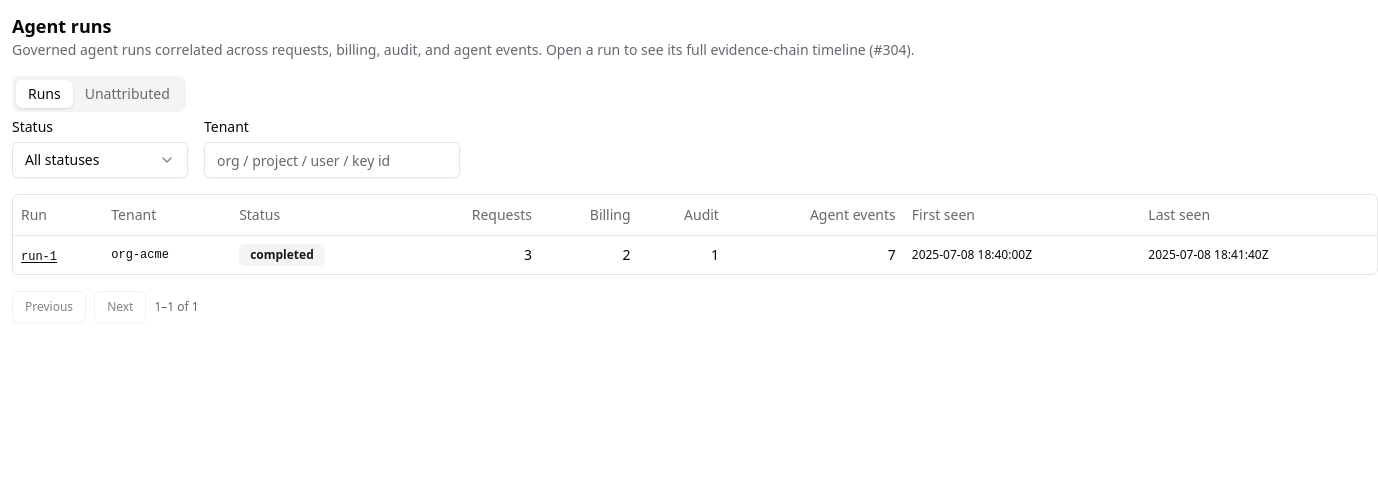
it: AgentRunsPage — unattributed activity › makes the evidence behind the derived status reachable
Click the tab "Unattributed" at (127, 94), box [73, 80, 182, 108]
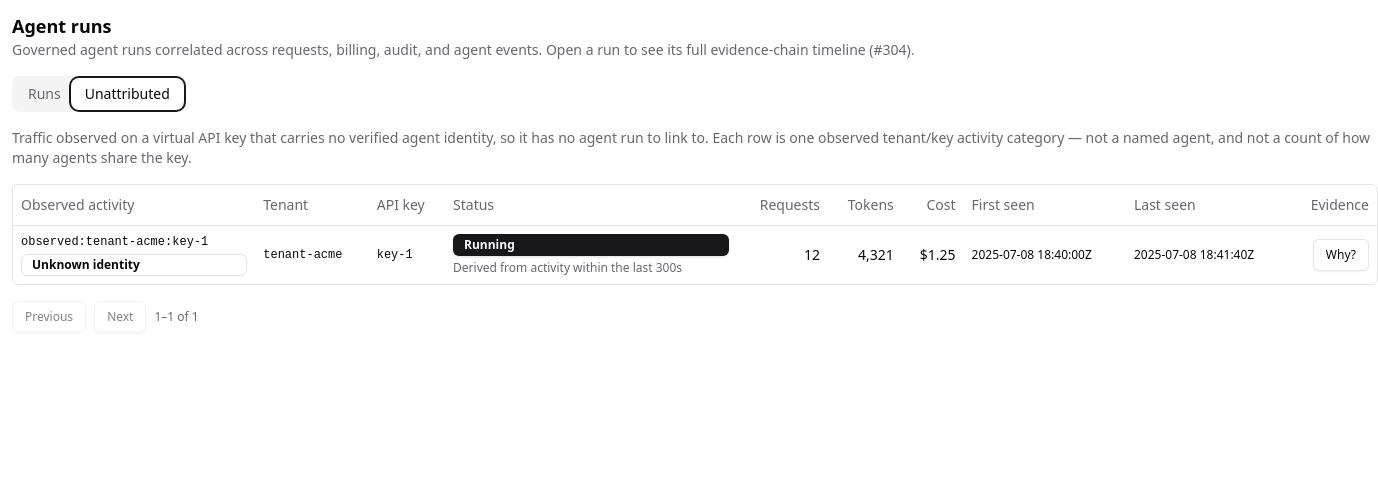
Check: the text "Requests observed" is not shown
Check: the text "observed:tenant-acme:key-1" is shown, box [21, 234, 208, 248]
Click the button with aria-label "Show the evidence for observed:tenant-acme:key-1" at (1341, 254), box [1313, 238, 1369, 270]
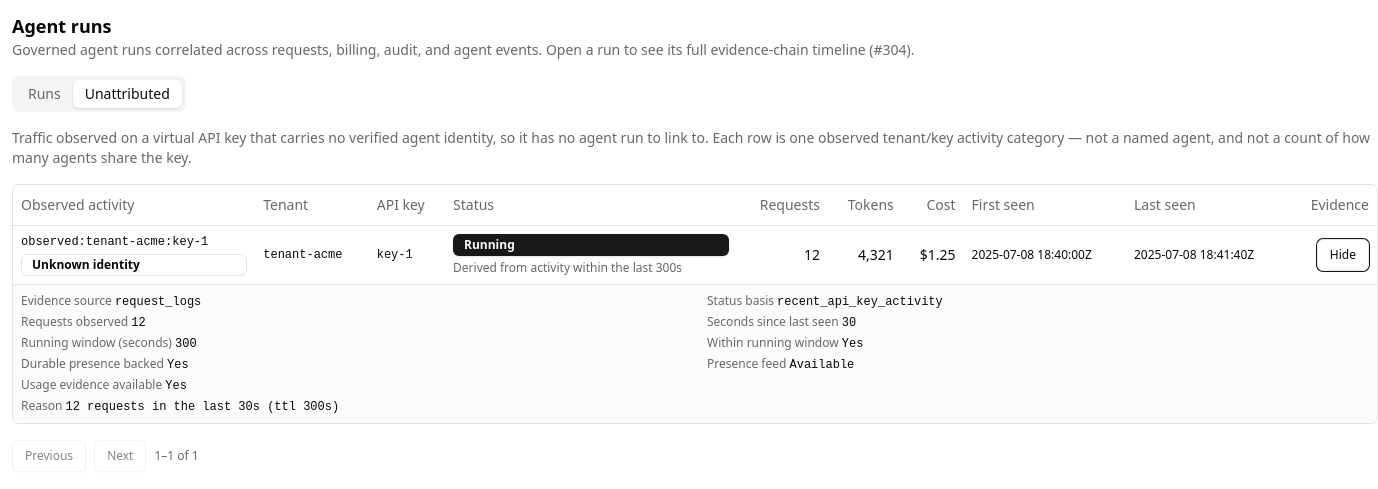
Check: the text "Requests observed" is shown, box [21, 312, 128, 330]
Check: the text "Seconds since last seen" is shown, box [707, 312, 839, 330]
Check: the text "Running window (seconds)" is shown, box [21, 334, 172, 350]
Click the button with aria-label "evidence for observed" at (1343, 254), box [1317, 238, 1369, 270]
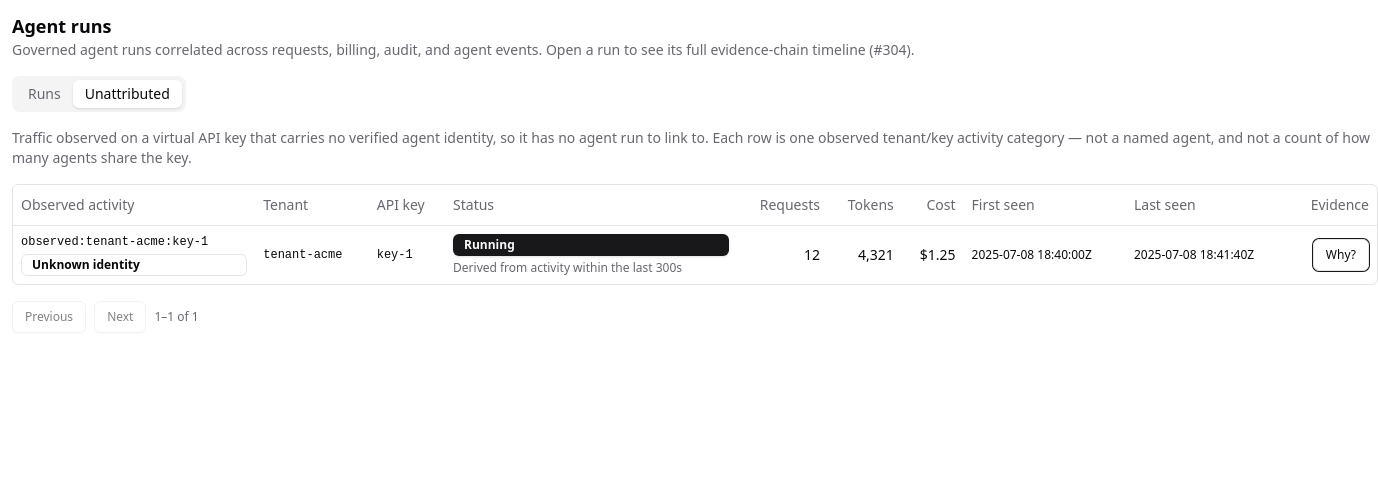
Check: the text "Requests observed" is gone
